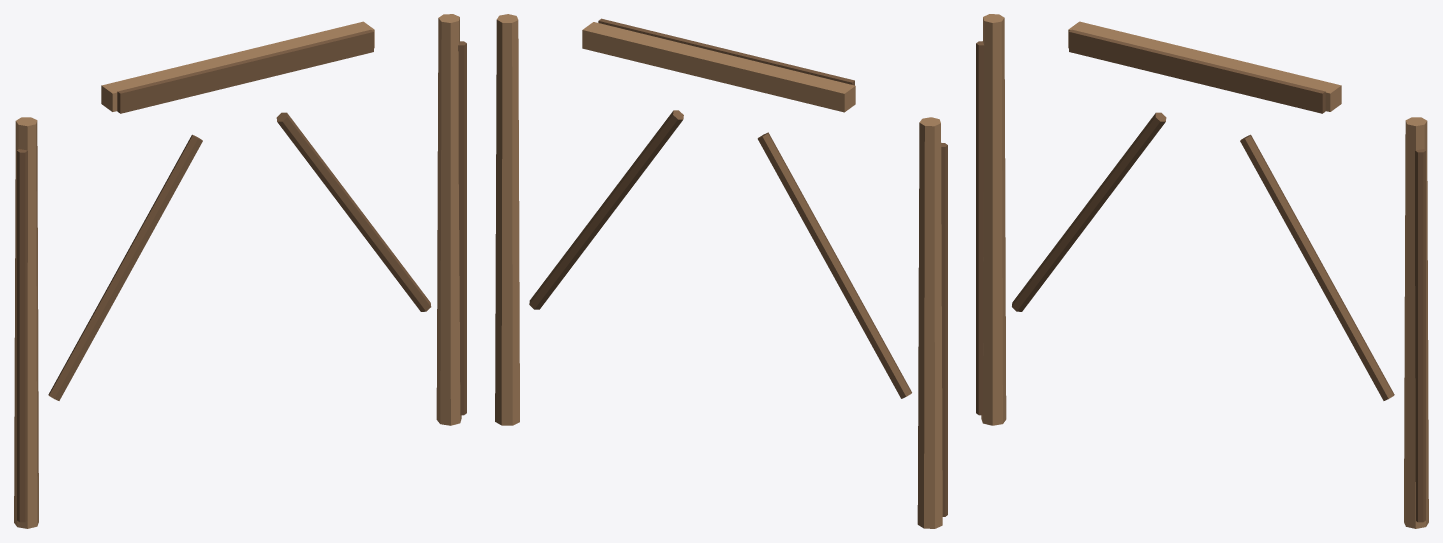
Rendered from cave_support_02.glb.
3 views of the same model, side by side, from view 1: azimuth 30°, elevation 25°; view 2: azimuth 150°, elevation 25°; view 3: azimuth 330°, elevation 25° (orthographic).
Parts seen in each view (by area): view 1: cave_support_02; view 2: cave_support_02; view 3: cave_support_02.
Part boxes in pixels (x1,y1,x2,y2): cave_support_02: (14,14,466,528); cave_support_02: (495,14,947,528); cave_support_02: (976,14,1428,528).
Bounding box in the file's own units: 3.02 × 2.68 × 0.1825.
